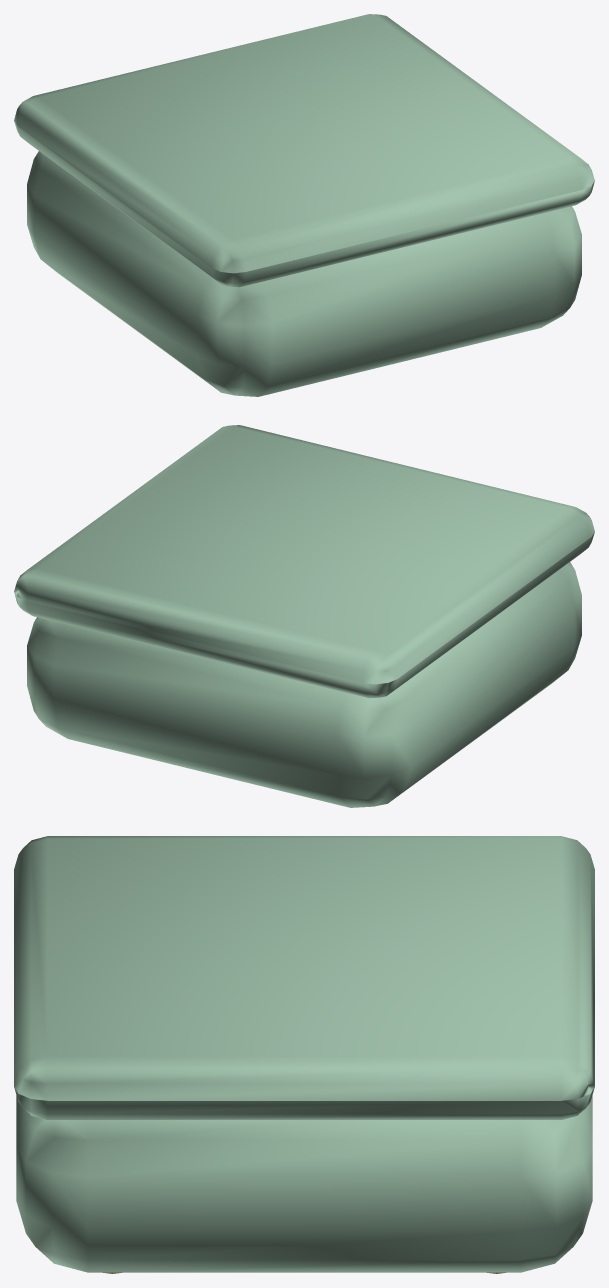
The model's file is rounded-ottoman.glb.
The picture shows the model from 3 angles, top to bottom: view 1: azimuth 30°, elevation 25°; view 2: azimuth 150°, elevation 25°; view 3: azimuth 270°, elevation 25°; orthographic projection. The views are drawn at different scales.
Parts seen in each view (by area): view 1: rounded-ottoman-sage upholstery; view 2: rounded-ottoman-sage upholstery; view 3: rounded-ottoman-sage upholstery.
Boxes of the visible parts, left/top/right/bottom form: rounded-ottoman-sage upholstery: left=14, top=14, right=594, bottom=396; rounded-ottoman-sage upholstery: left=14, top=425, right=594, bottom=807; rounded-ottoman-sage upholstery: left=14, top=836, right=594, bottom=1272.
Bounding box in the file's own units: 2.42 × 1.08 × 2.42.
